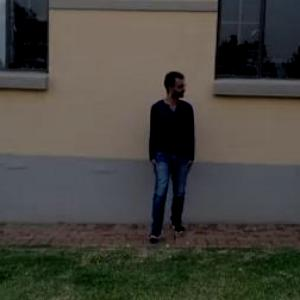follow: (148, 69, 198, 237)
